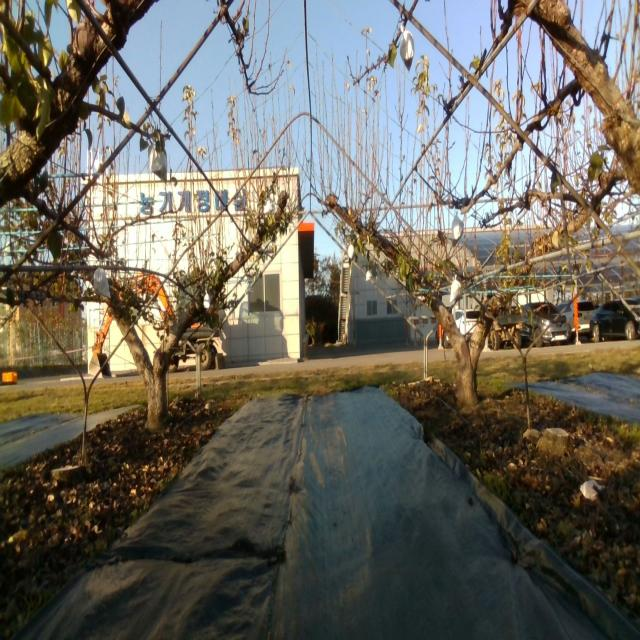pearbags: (400, 23, 414, 73), (150, 147, 168, 185), (93, 267, 110, 298), (452, 213, 464, 247), (450, 273, 462, 301)
